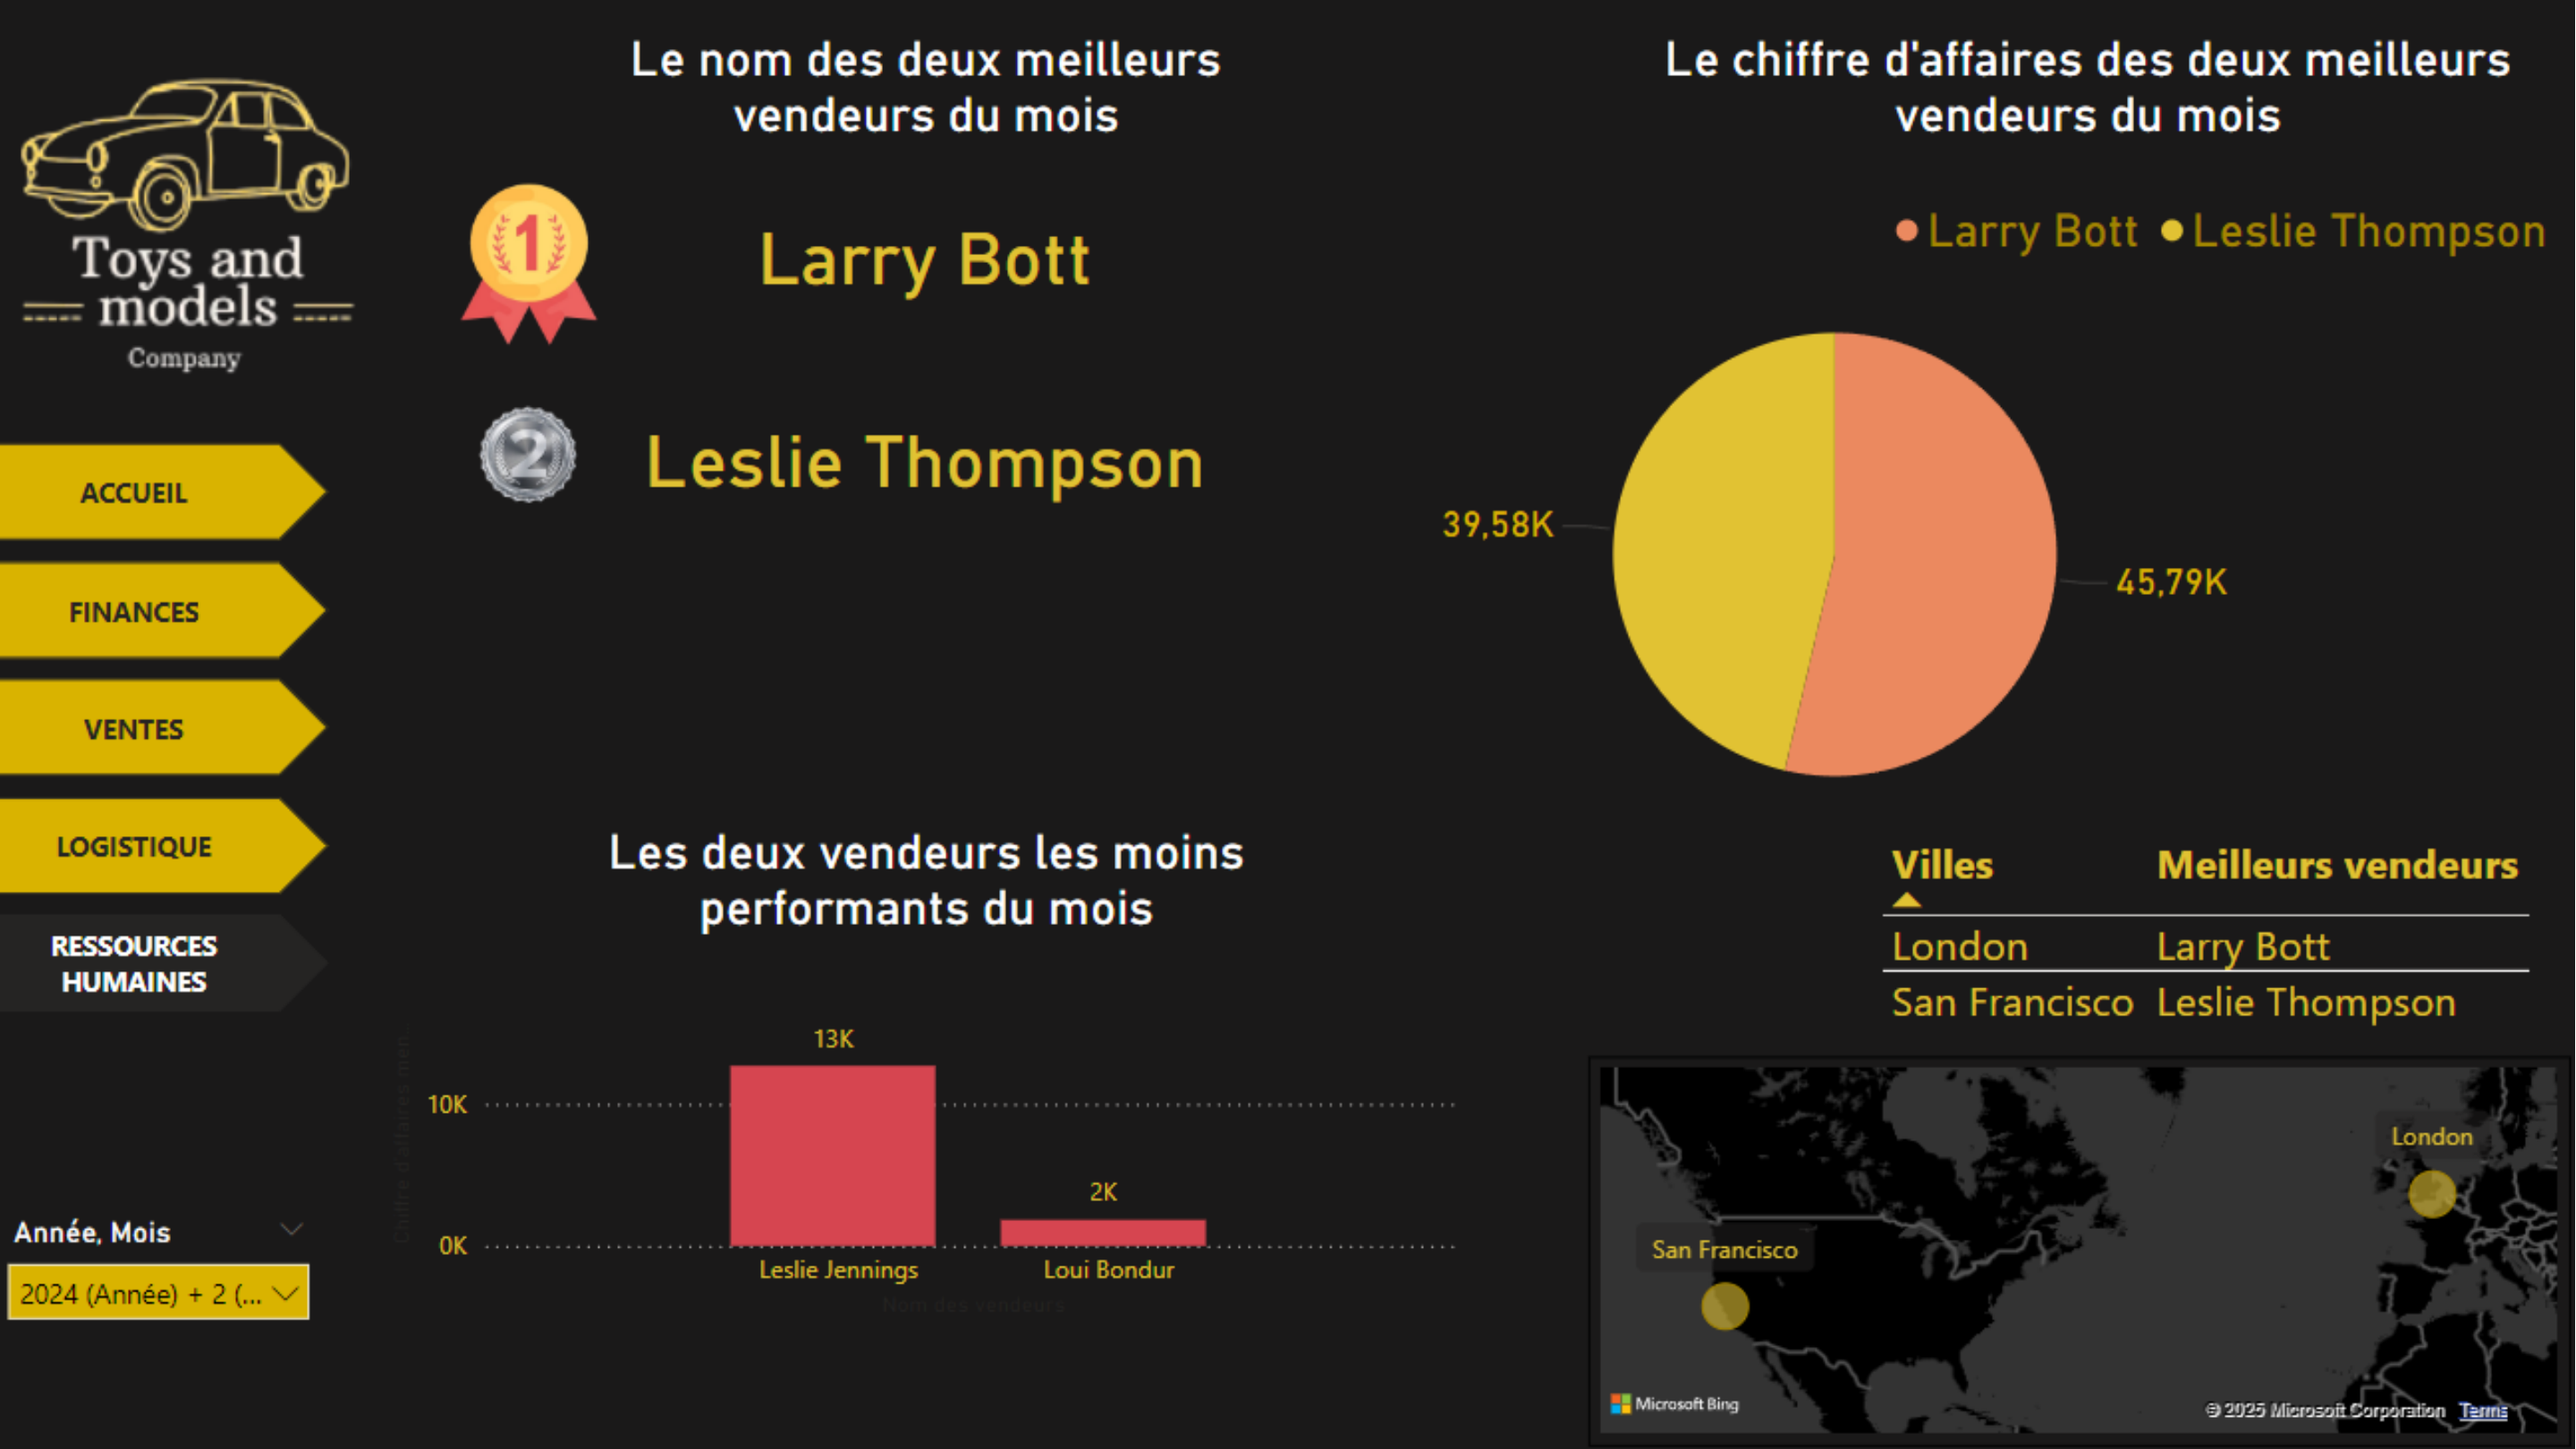

This screenshot's page, from the dashboard's own definition file:
{"tool":"powerbi","page":{"name":"RESSOURCES HUMAINES","canvas":[1280,720],"ordinal":4},"visuals":[{"type":"image","box":[0,0,200.6,219.4],"z":0},{"type":"donutChart","title":" Le chiffre d''affaires des deux meilleurs vendeurs du mois","fields":{"Category":["RH.fullName"],"Series":["RH.date_paiement"],"Y":["Sum(RH.total_sales)"]},"box":[455.2,77.8,816.1,345.3],"z":1000},{"type":"pageNavigator","box":[0,223.3,168.9,281.1],"z":2000},{"type":"slicer","fields":{"Values":["Datum.Year","Datum.Month"]},"box":[0,525.6,168.9,76.7],"z":3000},{"type":"card","fields":{"Values":["Min(RH.fullName)"]},"box":[209.6,77.7,504.7,103.6],"z":4000},{"type":"card","fields":{"Values":["Max(RH.fullName)"]},"box":[209.6,177.1,504.7,104.8],"z":5000},{"type":"columnChart","title":"Les deux vendeurs les moins performants ce mois...","fields":{"Category":["RH les vendeurs les moins performants.fullName"],"Y":["Sum(RH les vendeurs les moins performants.total_sales)"]},"box":[193.3,493.9,536.6,165],"z":6000},{"type":"textbox","box":[801.6,15.7,461.9,69.3],"z":7000},{"type":"textbox","box":[238,405.5,447,74.2],"z":8000},{"type":"tableEx","fields":{"Values":["Requête1.city","RH.fullName"]},"box":[926,412.6,337.4,151.1],"z":9000},{"type":"image","box":[218.6,92.1,95.2,89.1],"z":10000},{"type":"image","box":[229.5,192.1,73.5,74.7],"z":11000},{"type":"textbox","box":[264,15.5,395,69.2],"z":12000},{"type":"map","fields":{"Category":["Requête1.city"]},"box":[788,525.8,483.3,191.6],"z":13000}]}

Visuals, with their boxes in screenshot pixels (x1, y1, x2, y2), scaled from the page's 1280x720 canvas onto the 2576x1449 screenshot:
image: rect(0, 0, 403, 442)
" Le chiffre d''affaires des deux meilleurs vendeurs du mois" donutChart: rect(916, 157, 2558, 852)
pageNavigator: rect(0, 449, 340, 1015)
slicer - Datum.Year x Datum.Month: rect(0, 1058, 340, 1212)
card - Min(RH.fullName): rect(422, 157, 1437, 365)
card - Max(RH.fullName): rect(422, 356, 1437, 567)
"Les deux vendeurs les moins performants ce mois..." columnChart: rect(389, 994, 1469, 1326)
textbox: rect(1614, 31, 2543, 171)
textbox: rect(479, 816, 1378, 965)
tableEx - Requête1.city x RH.fullName: rect(1864, 830, 2543, 1134)
image: rect(440, 185, 631, 365)
image: rect(462, 386, 610, 537)
textbox: rect(531, 31, 1326, 171)
map - Requête1.city: rect(1586, 1058, 2558, 1444)
